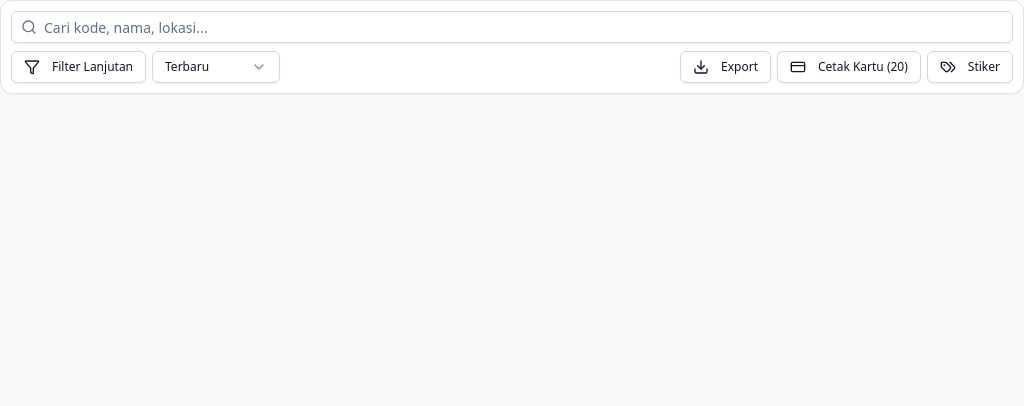
Scenario: desktop: satu pilihan urutan hanya membaca urutan baru pada halaman pertama
Click the dropdown.
click(216, 67)  # box [152,51,280,83]
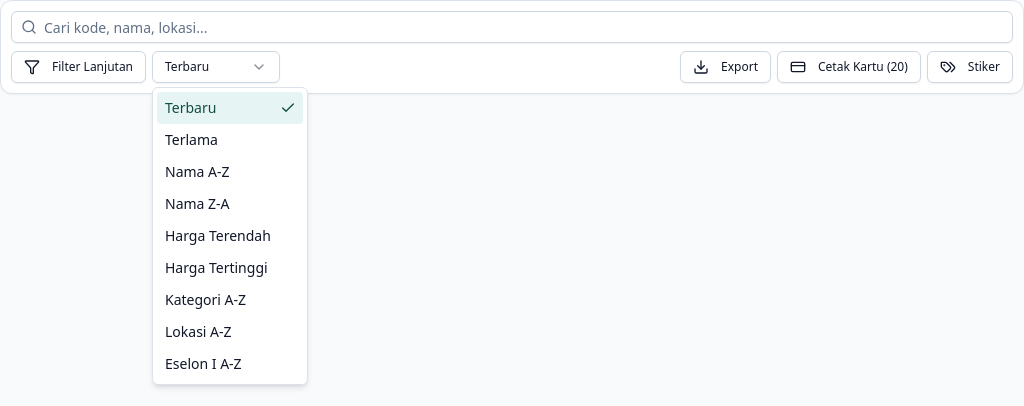
Click the option "Terlama".
click(191, 140)  # box [165,130,218,149]
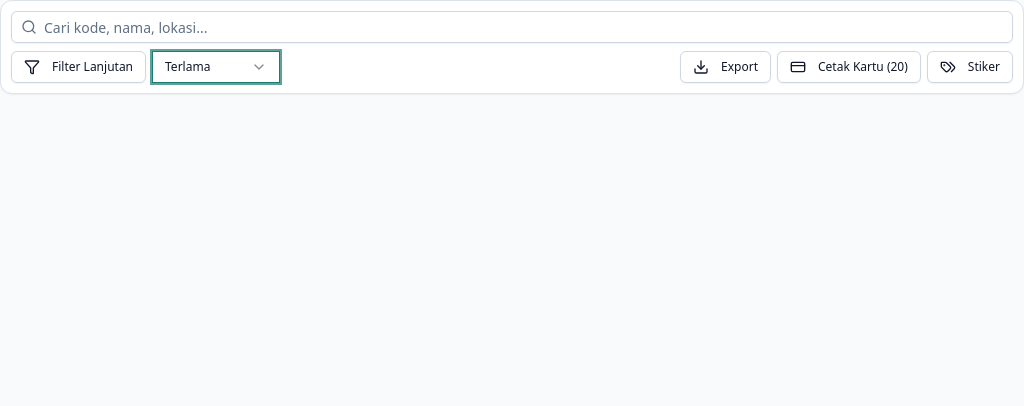
Expected: the dropdown reads "Terlama", [152,51,280,83]
